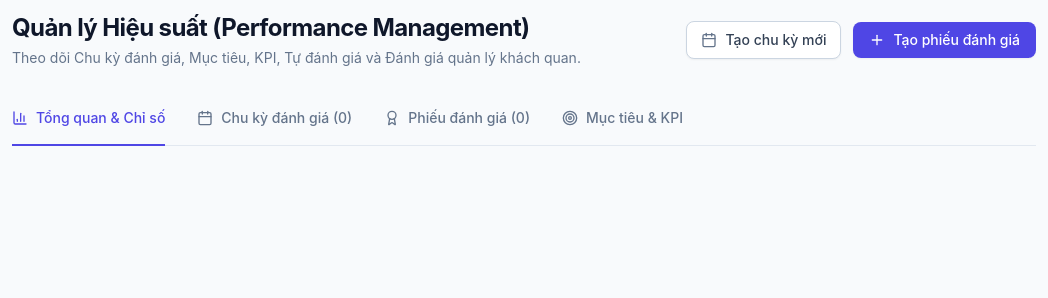
PerformancePage & Employee Review UI › navigates to Chu kỳ đánh giá tab and renders cycles table
The image size is (1048, 298).
Click the button "Chu kỳ đánh giá (0)" at (275, 119), box [197,92,352,146]
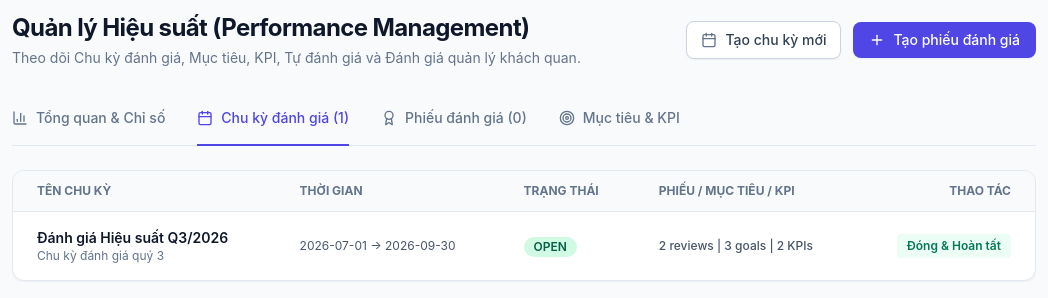
Expected: the text "Chu kỳ đánh giá quý 3" is shown, [37,248,164,263]
Expected: the text "2026-07-01 → 2026-09-30" is shown, [276,212,500,280]
Expected: the text "2 reviews | 3 goals | 2 KPIs" is shown, [635,212,857,280]
